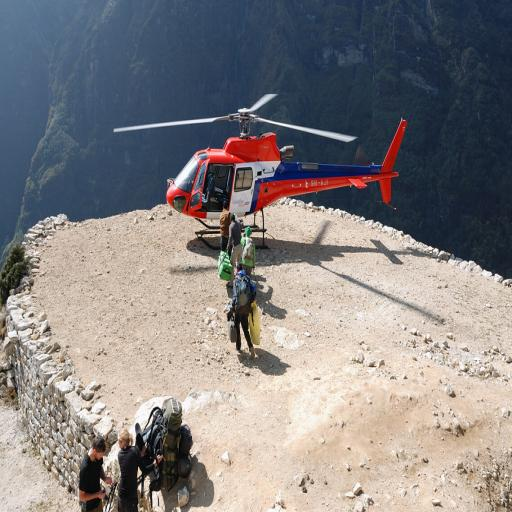helicopter: (119, 95, 418, 245)
